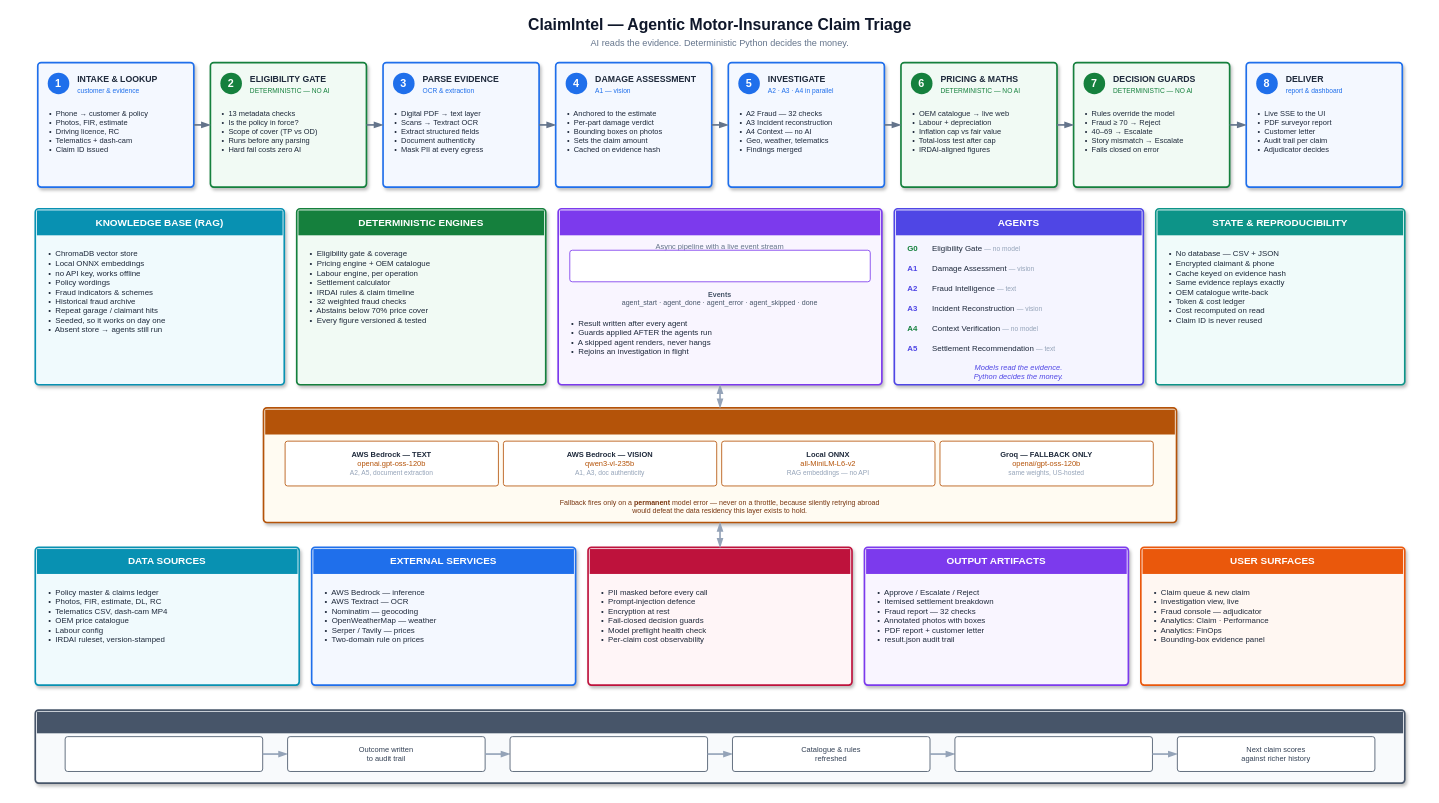
Some shapes in this 1439 by 803 pixel diagram are drawn without their labels. The centre of each missing label's shape, as x and y in pixels:
"Adjudicator decision" belongs at point (163, 753).
"AUDIT & FEEDBACK LOOP — every decision makes the next claim better" belongs at point (720, 722).
"Confirmed fraud joins the archive" belongs at point (608, 753).
"G0 Gate → Parse → A1 → [ A2 | A3 | A4 ] → A5" belongs at point (719, 265).
"MULTI-PROVIDER MODEL LAYER — primary inference in ap-south-1" belongs at point (719, 421).
"ORCHESTRATION LAYER" belongs at point (719, 222).
"Rate card & ruleset re-verified" belongs at point (1053, 753).
"SAFEGUARDS" belongs at point (719, 561).
